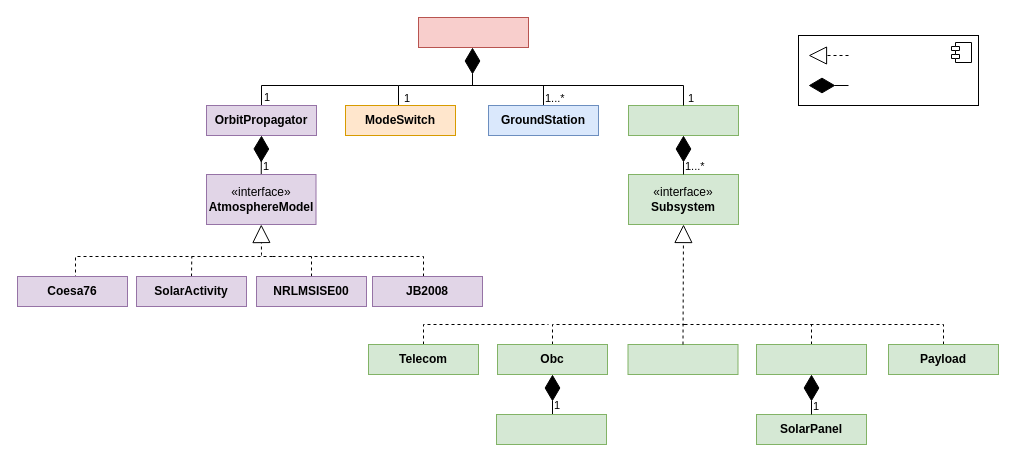
Some shapes in this 1016 by 462 pixel diagram are drawn without their labels. Each missing label, with the centre of its shape:
Adcs: the point at 682,359
DataStorage: the point at 551,429
Eps: the point at 811,359
Inheritance Composition: the point at 888,70
Simulation: the point at 473,32
Spacecraft: the point at 683,120
